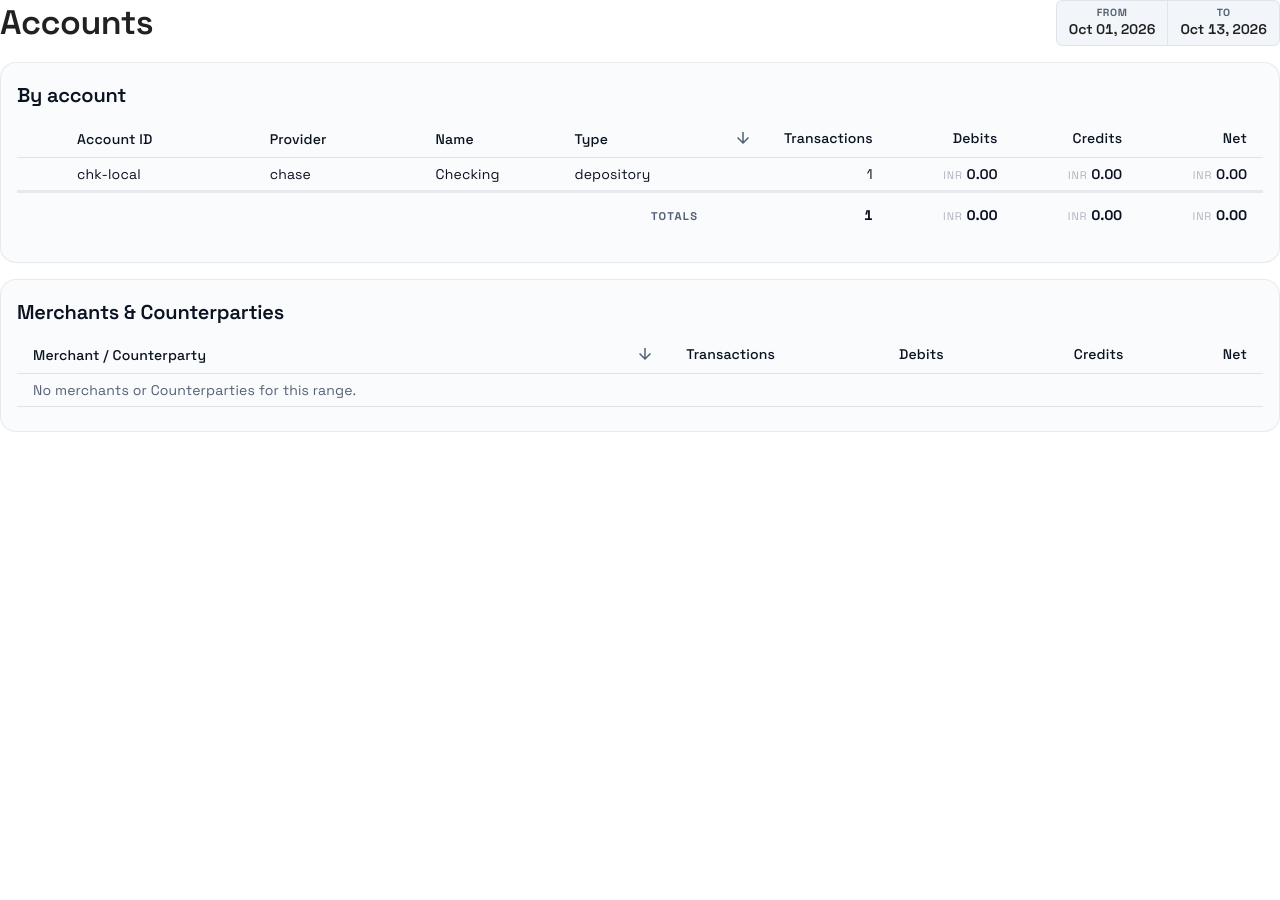
Test: Accounts › opens account detail when a data row is activated
Expected: the text "Checking" is shown, [436,165,500,183]
Click the button with aria-label "view account details for chk-local" at (640, 174), box [17,157,1263,191]
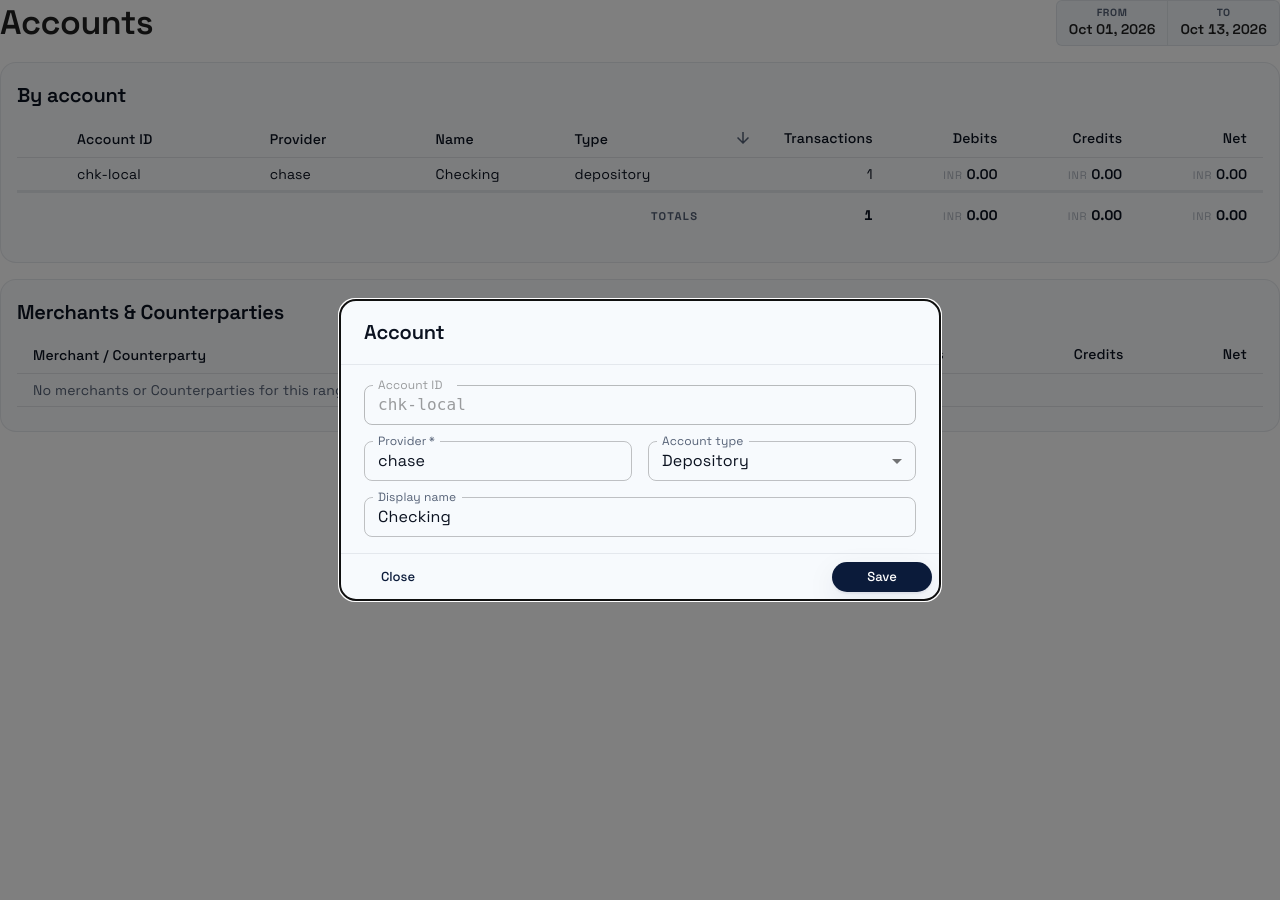
Now the dialog "Account" is shown, box [340,300,940,600]
